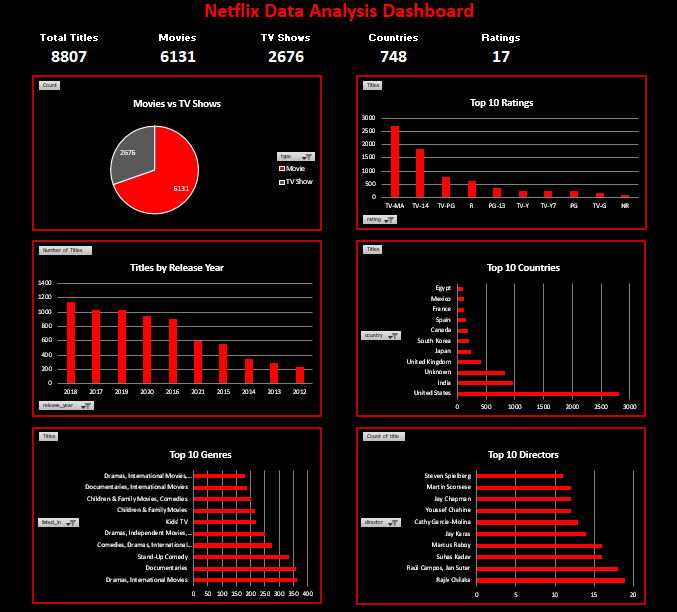

Layout of this report page (visuals, bound fields, positions):
{"tool":"powerbi","page":{"name":"Page 1","canvas":[1500,1320],"ordinal":0},"visuals":[{"type":"shape","box":[17.5,95,212.5,460],"z":0},{"type":"textbox","box":[250,0,1000,60],"z":1000},{"type":"shape","box":[251,96.2,200,100],"z":2000},{"type":"textbox","box":[250,45,1000,50],"z":3000},{"type":"image","box":[10,0,200,112.5],"z":4000},{"type":"image","box":[1365,12.5,135,112.5],"z":5000},{"type":"textbox","box":[273.5,102.1,150,35.7],"z":6000},{"type":"textbox","box":[275.3,132.4,150,60.7],"z":7000},{"type":"textbox","box":[19,102,89,47],"z":8000},{"type":"shape","box":[479.7,92.8,200,100],"z":9000},{"type":"shape","box":[937.2,92.8,200,100],"z":10000},{"type":"shape","box":[708.5,92.8,200,100],"z":11000},{"type":"shape","box":[1166,94,200,100],"z":12000},{"type":"slicer","fields":{"Values":["Sheet1.type"]},"box":[24.4,138.1,200,78.9],"z":13000},{"type":"slicer","fields":{"Values":["Sheet1.country"]},"box":[24.4,230.3,200,80],"z":14000},{"type":"slicer","fields":{"Values":["Sheet1.rating"]},"box":[24.4,327,200,80],"z":15000},{"type":"slicer","fields":{"Values":["Sheet1.release_year"]},"box":[24.4,428.1,200,98.9],"z":16000},{"type":"clusteredColumnChart","title":"Movies vs TV Shows","fields":{"Category":["Sheet1.type"],"Y":["CountNonNull(Sheet1.type)"]},"box":[250,206.8,400,350],"z":17000},{"type":"clusteredBarChart","title":"Content Ratings","fields":{"Category":["Sheet1.rating"],"Y":["CountNonNull(Sheet1.rating)"]},"box":[662.5,206.8,400,350],"z":18000},{"type":"clusteredBarChart","title":"Top 10 Countries","fields":{"Category":["Sheet1.country"],"Y":["CountNonNull(Sheet1.country)"]},"box":[1075,206.8,397.7,350],"z":19000},{"type":"textbox","box":[504.4,100,151.1,35.6],"z":20000},{"type":"textbox","box":[505,130,150,60],"z":21000},{"type":"textbox","box":[733.3,100,150,35],"z":22000},{"type":"textbox","box":[732.5,130,150,60],"z":23000},{"type":"clusteredBarChart","title":"Top 10 Genres","fields":{"Category":["Sheet1.listed_in"],"Y":["CountNonNull(Sheet1.listed_in)"]},"box":[38.6,577.3,700,350],"z":24000},{"type":"lineChart","title":"Content Released Over Years","fields":{"Category":["Sheet1.release_year"],"Y":["CountNonNull(Sheet1.show_id)"]},"box":[36,946,1426,350],"z":25000},{"type":"clusteredBarChart","title":"Top 10 Directors","fields":{"Category":["Sheet1.director"],"Y":["CountNonNull(Sheet1.director)"]},"box":[759.1,577.3,700,350],"z":26000},{"type":"textbox","box":[962.5,100,150,35],"z":27000},{"type":"textbox","box":[962.5,130,150,60],"z":28000},{"type":"textbox","box":[1191.2,102.5,150,35],"z":29000},{"type":"textbox","box":[1191.2,131.2,150,60],"z":30000}]}

Visuals, with their boxes in screenshot pixels (x1, y1, x2, y2), scaled from the page's 1500x1320 canvas onto the 677x612 screenshot:
shape: rect(8, 44, 104, 257)
textbox: rect(113, 0, 564, 28)
shape: rect(113, 45, 204, 91)
textbox: rect(113, 21, 564, 44)
image: rect(5, 0, 95, 52)
image: rect(616, 6, 676, 58)
textbox: rect(123, 47, 191, 64)
textbox: rect(124, 61, 192, 90)
textbox: rect(9, 47, 49, 69)
shape: rect(217, 43, 307, 89)
shape: rect(423, 43, 513, 89)
shape: rect(320, 43, 410, 89)
shape: rect(526, 44, 617, 90)
slicer - Sheet1.type: rect(11, 64, 101, 101)
slicer - Sheet1.country: rect(11, 107, 101, 144)
slicer - Sheet1.rating: rect(11, 152, 101, 189)
slicer - Sheet1.release_year: rect(11, 198, 101, 244)
"Movies vs TV Shows" clusteredColumnChart: rect(113, 96, 293, 258)
"Content Ratings" clusteredBarChart: rect(299, 96, 480, 258)
"Top 10 Countries" clusteredBarChart: rect(485, 96, 665, 258)
textbox: rect(228, 46, 296, 63)
textbox: rect(228, 60, 296, 88)
textbox: rect(331, 46, 399, 63)
textbox: rect(331, 60, 398, 88)
"Top 10 Genres" clusteredBarChart: rect(17, 268, 333, 430)
"Content Released Over Years" lineChart: rect(16, 439, 660, 601)
"Top 10 Directors" clusteredBarChart: rect(343, 268, 659, 430)
textbox: rect(434, 46, 502, 63)
textbox: rect(434, 60, 502, 88)
textbox: rect(538, 48, 605, 64)
textbox: rect(538, 61, 605, 89)
